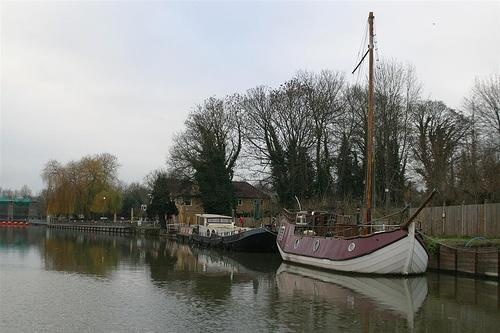boat: (274, 11, 437, 279), (184, 214, 281, 252)
